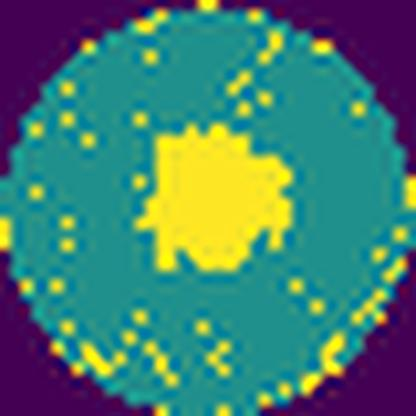Center: (136, 124, 289, 274)
